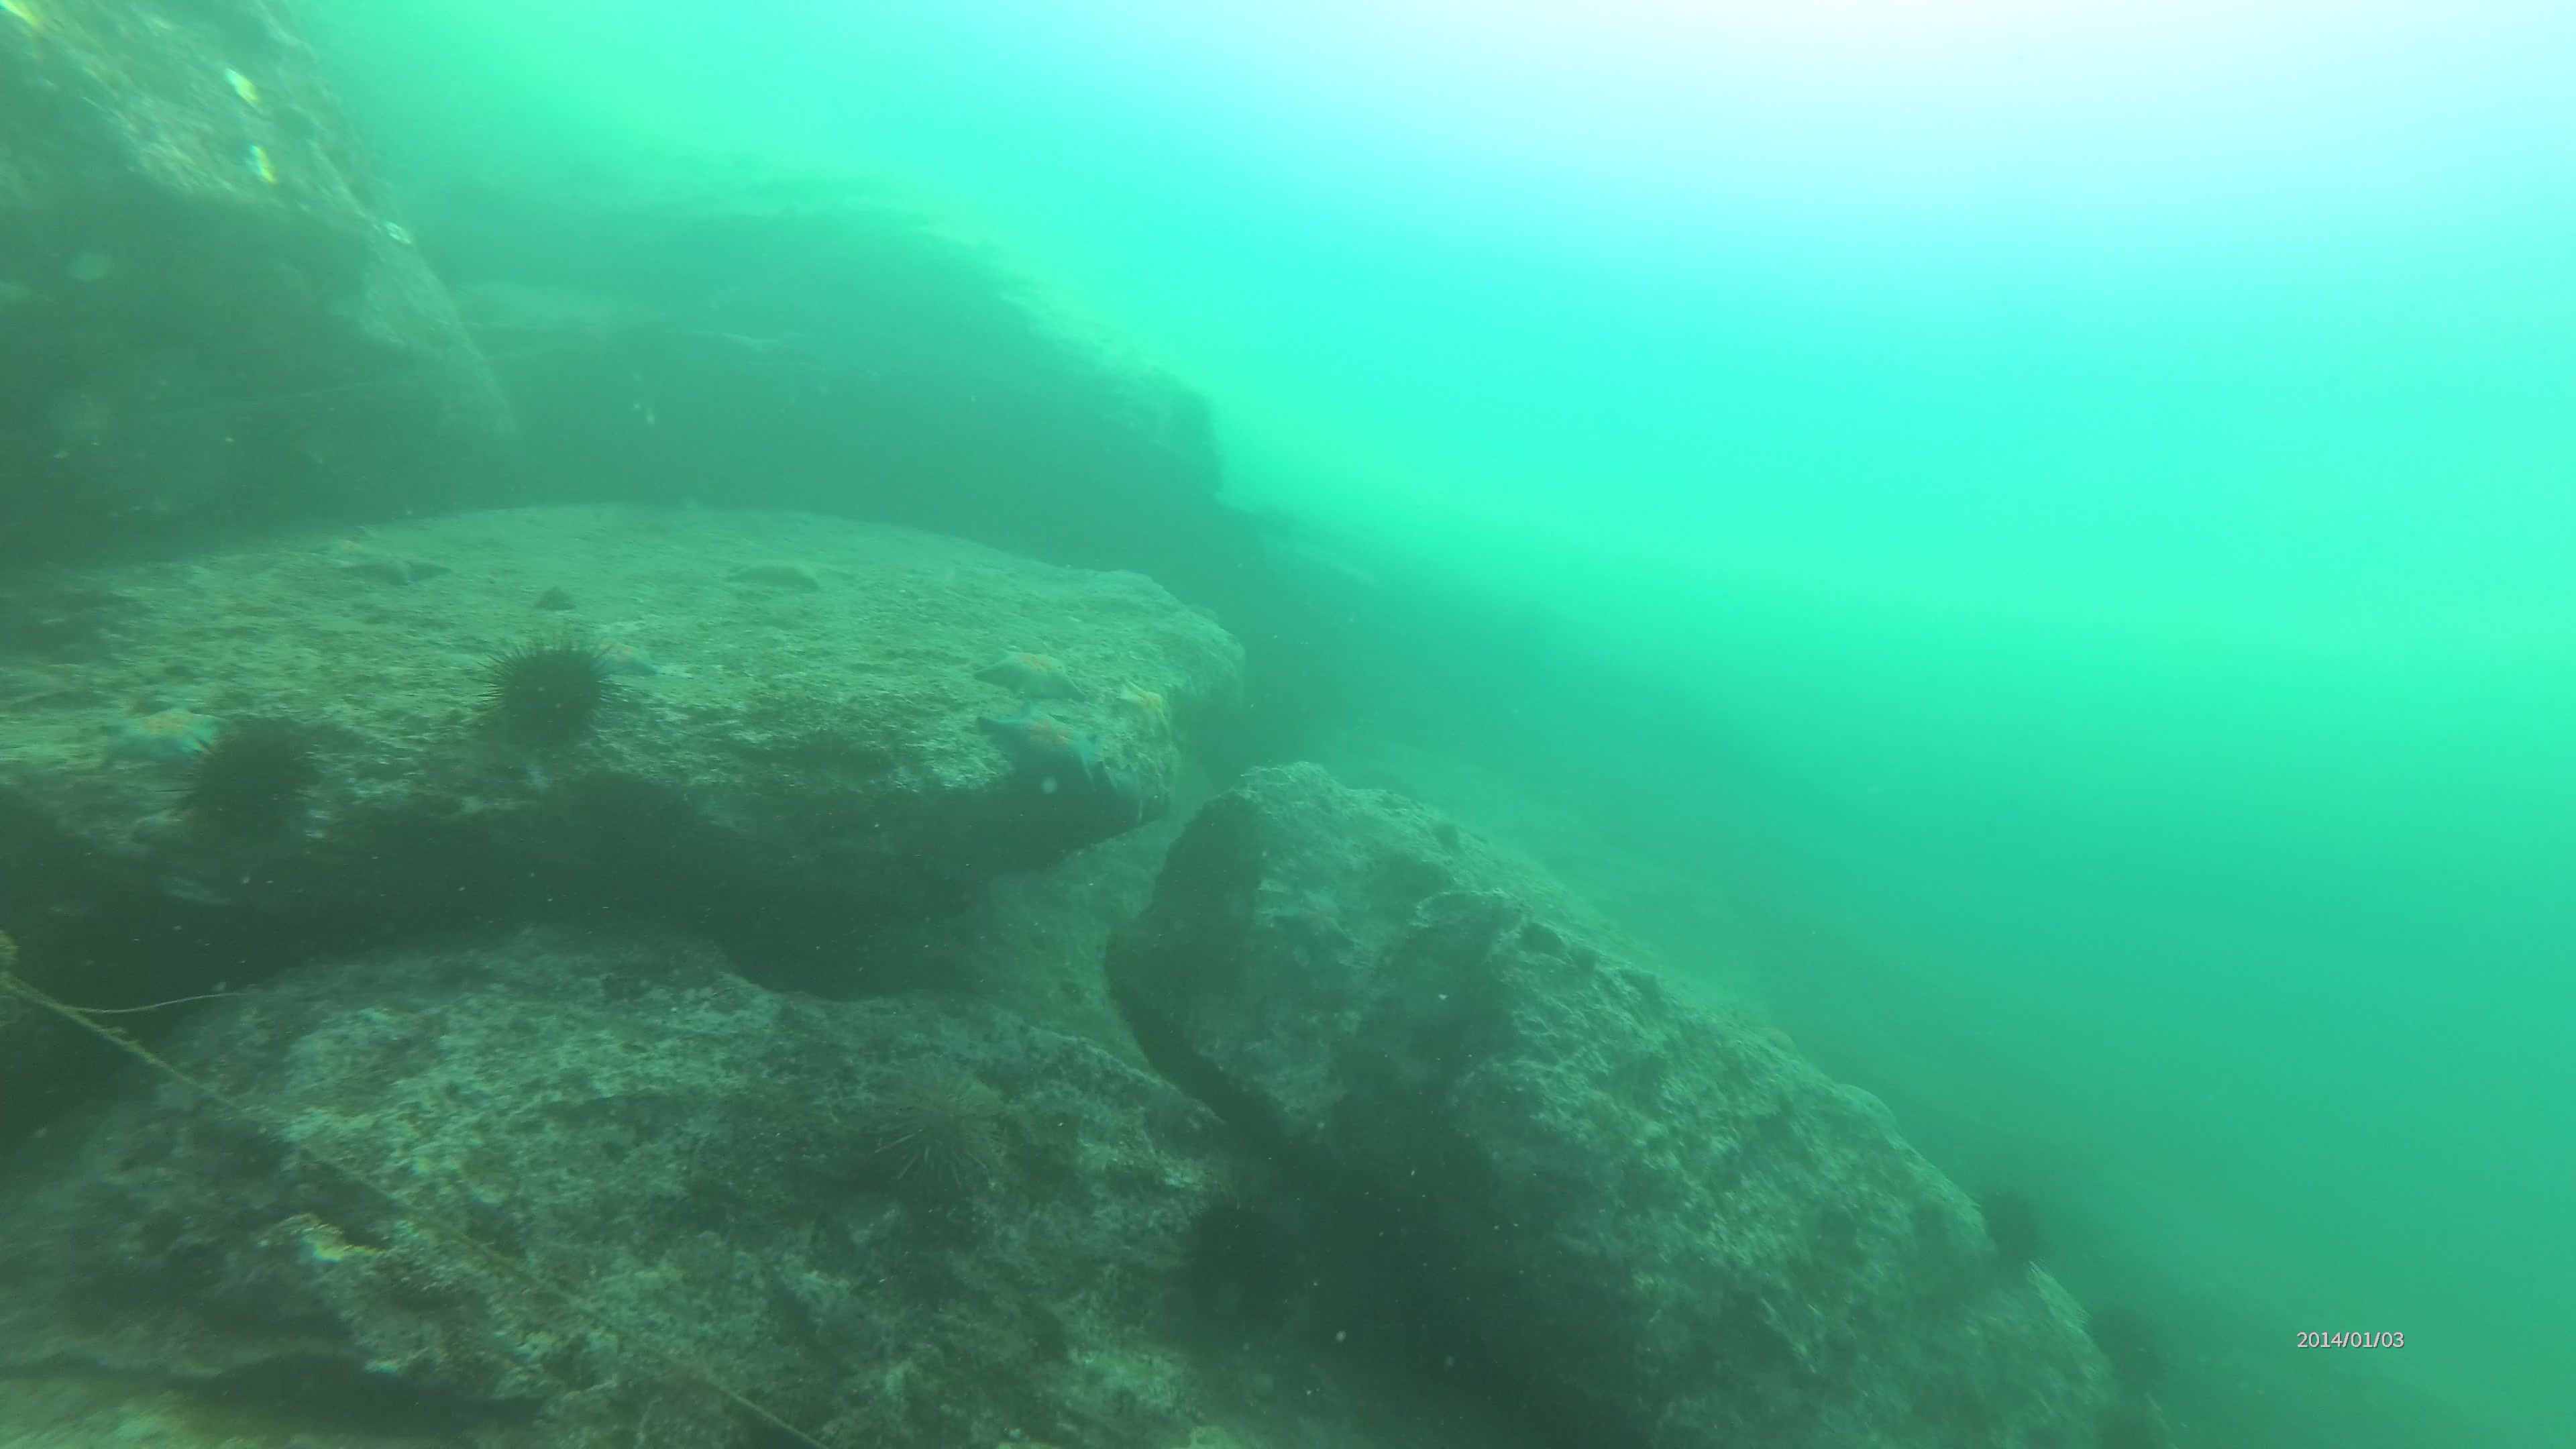echinus: (867, 1063, 1026, 1217), (494, 639, 614, 754), (189, 725, 304, 839), (1976, 1192, 2051, 1272)
starfish: (994, 697, 1134, 805), (110, 701, 216, 780), (977, 642, 1092, 709), (1109, 674, 1184, 747)
